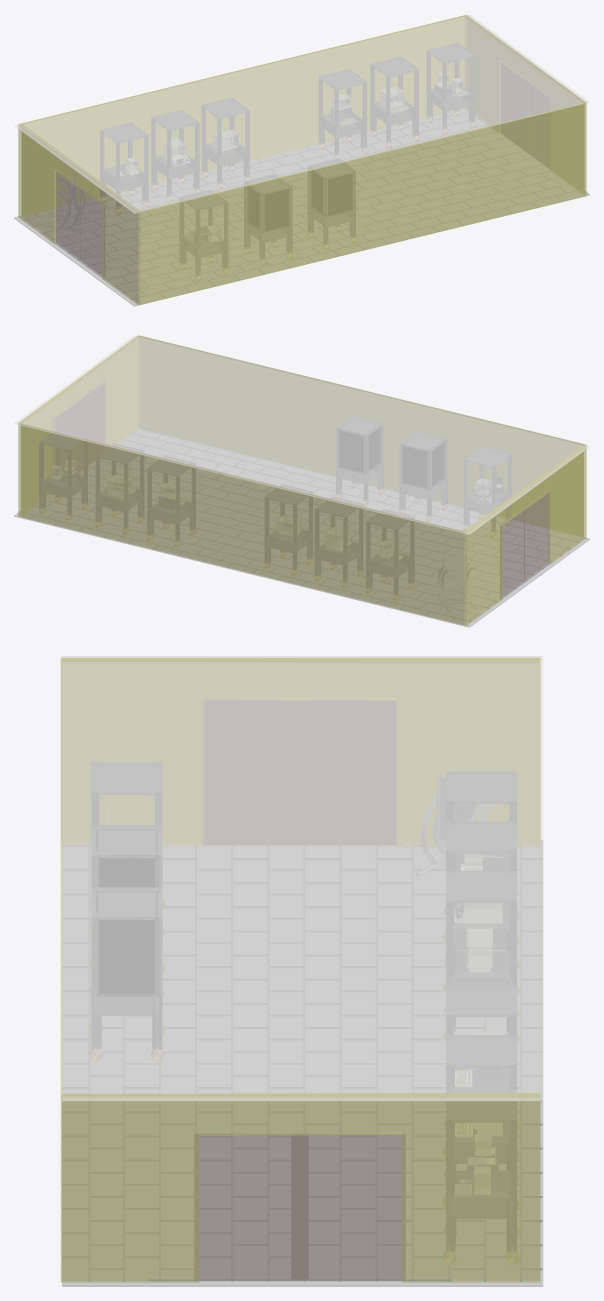
Rendered from Museo01.glb.
The picture shows the model from 3 angles, top to bottom: view 1: azimuth 30°, elevation 25°; view 2: azimuth 150°, elevation 25°; view 3: azimuth 270°, elevation 25°; orthographic projection. The views are drawn at different scales.
Visible parts, largest first — view 1: Museo01; view 2: Museo01; view 3: Museo01.
Boxes of the visible parts, x1,y1,x2,y2 form: Museo01: (14, 14, 589, 306); Museo01: (14, 335, 589, 627); Museo01: (61, 656, 543, 1286).
Bounding box in the file's own units: 9136 × 1802 × 4189.
